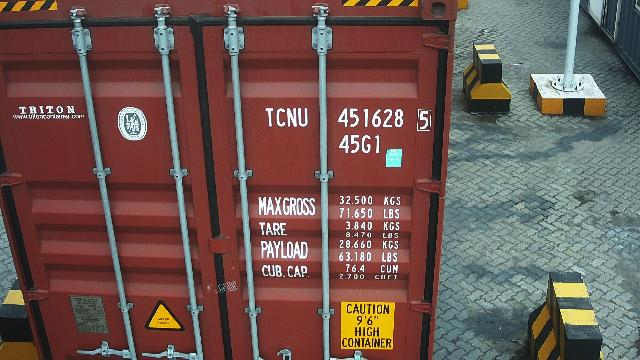1: (362, 108, 370, 128)
2: (383, 108, 393, 128)
4: (338, 107, 348, 127)
5: (418, 109, 430, 131), (350, 108, 360, 128)
6: (372, 108, 382, 128)
8: (394, 108, 404, 128)
C: (276, 107, 286, 127)
N: (287, 108, 297, 128)
T: (264, 106, 274, 128)
U: (298, 107, 308, 127)
